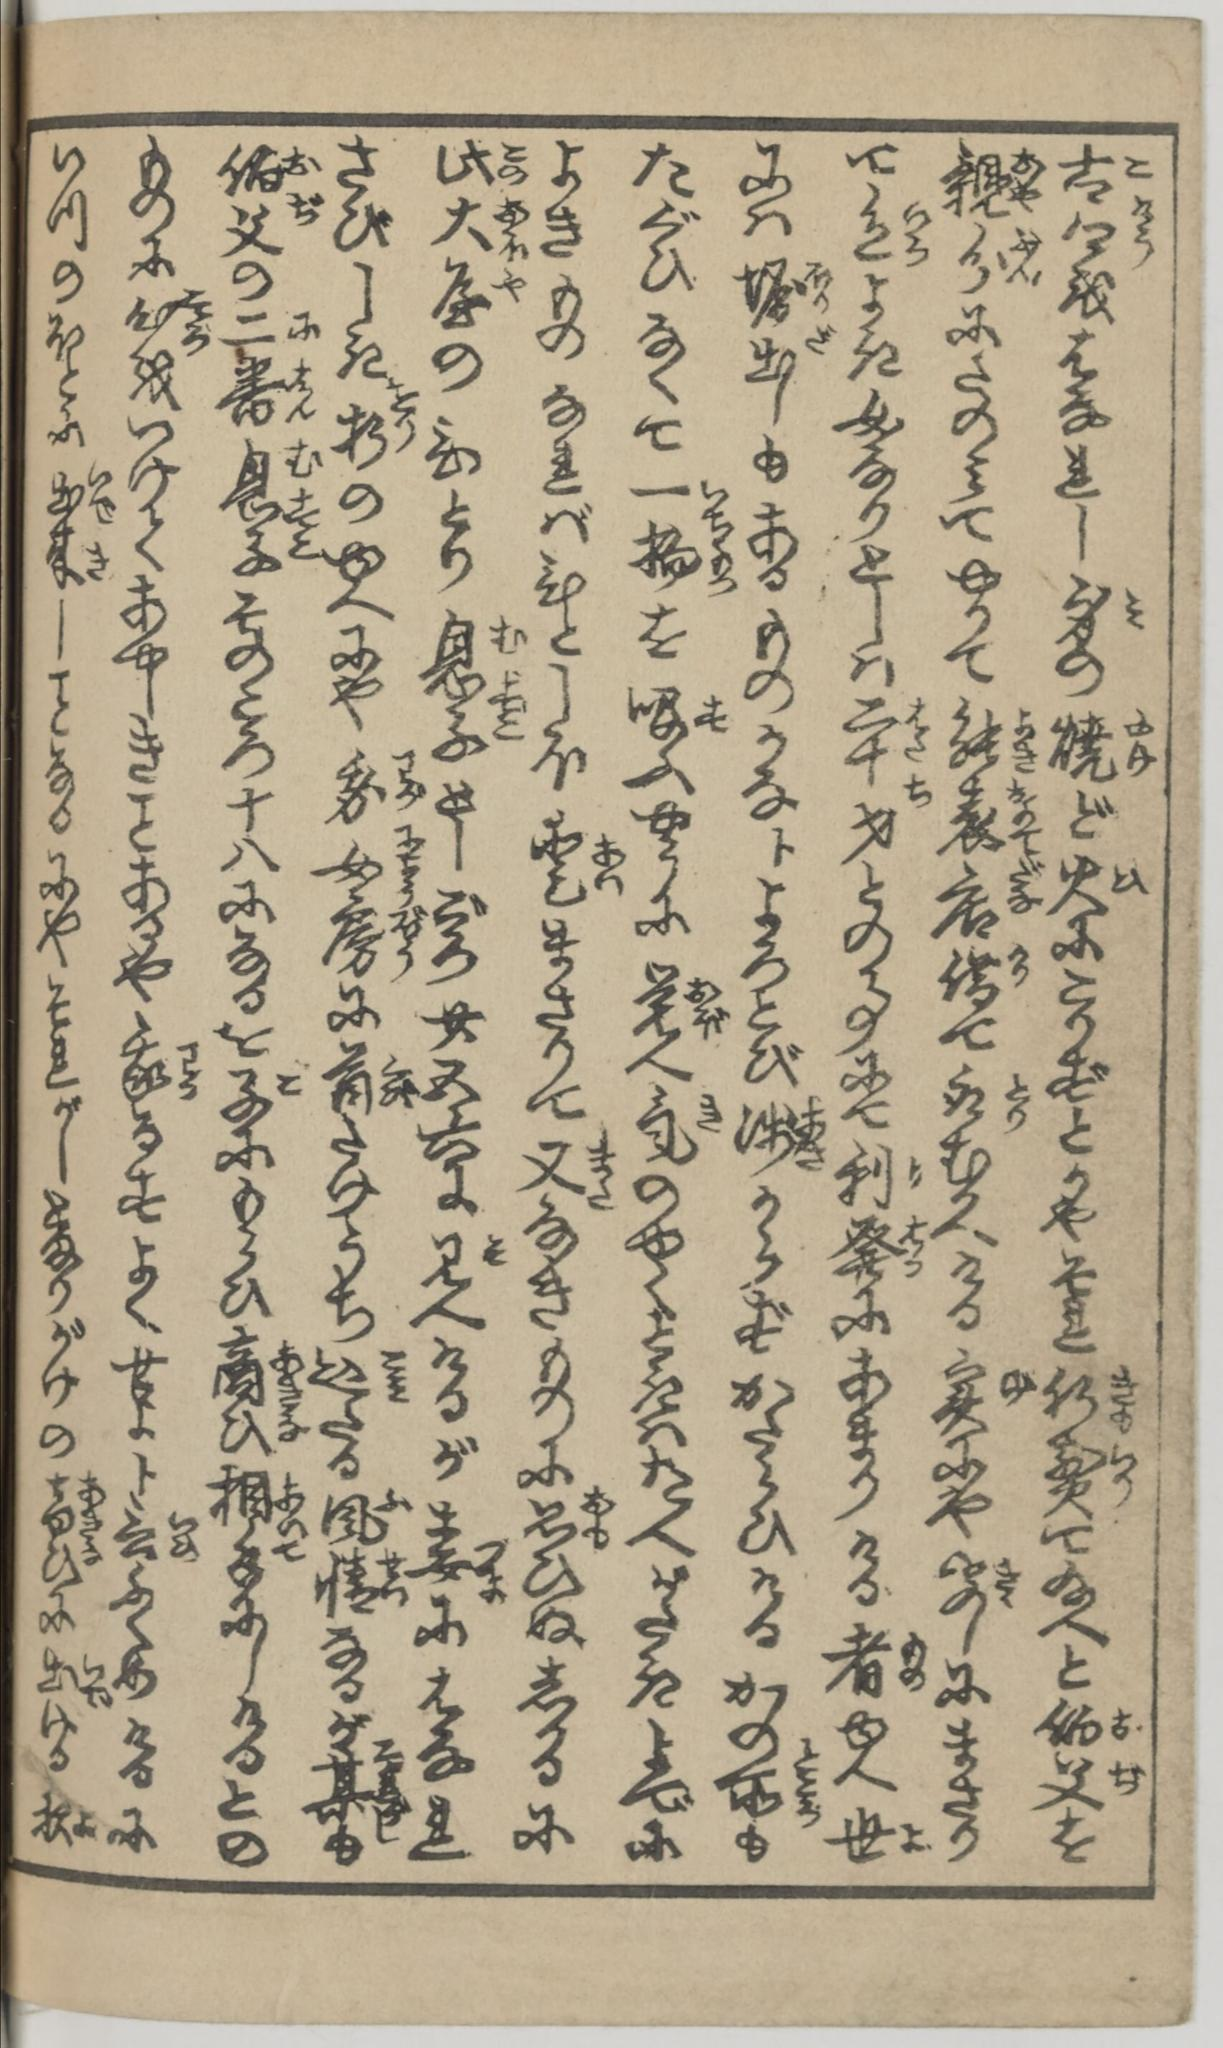MainZone-Character: (616, 466, 748, 608), (202, 1325, 309, 1454), (517, 819, 636, 907), (415, 1501, 512, 1606), (425, 670, 539, 758), (313, 1738, 406, 1846), (926, 1349, 1035, 1438), (1042, 706, 1156, 790), (114, 1007, 204, 1112), (943, 769, 1044, 857), (326, 389, 424, 479), (215, 352, 316, 440), (719, 1742, 821, 1828), (731, 1093, 830, 1180), (1040, 1435, 1146, 1515), (942, 143, 1048, 223), (828, 1212, 927, 1297), (328, 904, 428, 987), (616, 686, 732, 757), (314, 1041, 422, 1116), (312, 1348, 419, 1424), (309, 1543, 411, 1620), (818, 1626, 927, 1697), (626, 961, 731, 1035), (936, 862, 1047, 932), (1047, 572, 1155, 643), (932, 937, 1040, 1009), (512, 1135, 622, 1205), (842, 767, 935, 849), (425, 265, 529, 338), (215, 197, 328, 263), (844, 189, 936, 271), (1054, 199, 1165, 266), (231, 495, 320, 576), (325, 747, 428, 817), (932, 1060, 1037, 1128), (729, 253, 831, 323), (326, 831, 428, 901), (1051, 854, 1159, 920), (948, 224, 1040, 300), (215, 1470, 314, 1540), (826, 1806, 933, 1870), (834, 1134, 925, 1210), (633, 1089, 724, 1164), (1037, 1361, 1139, 1428), (731, 325, 837, 389), (430, 192, 533, 258), (39, 1473, 109, 1569), (942, 696, 1035, 767), (842, 697, 935, 769), (1060, 143, 1166, 202), (932, 1552, 1024, 1620), (424, 607, 533, 664), (524, 1480, 611, 1550), (218, 141, 326, 197), (215, 1541, 304, 1607), (116, 291, 210, 352), (221, 1063, 304, 1131), (432, 141, 537, 195), (215, 444, 328, 491), (114, 1512, 207, 1568), (33, 1649, 115, 1710), (26, 1792, 102, 1856), (44, 534, 116, 594), (224, 309, 328, 348), (316, 1489, 397, 1536), (47, 464, 112, 518)
MainZone-Ruby: (697, 482, 741, 597), (274, 1339, 309, 1454), (485, 664, 529, 754), (370, 1739, 406, 1847), (387, 904, 428, 994), (581, 1132, 622, 1215), (469, 1533, 511, 1611), (1003, 771, 1042, 854), (1101, 1437, 1141, 1511), (582, 833, 626, 901), (1120, 709, 1155, 792), (997, 1360, 1044, 1421), (392, 822, 428, 900), (789, 1744, 821, 1828), (686, 972, 729, 1033), (1006, 144, 1044, 214), (79, 1475, 108, 1563), (376, 1054, 418, 1114), (282, 491, 316, 563), (692, 690, 737, 742), (489, 198, 529, 256), (795, 1099, 826, 1173), (1118, 581, 1149, 654), (377, 1544, 408, 1617), (1104, 1362, 1139, 1425), (1005, 229, 1040, 290), (173, 1031, 201, 1108), (903, 195, 932, 268), (274, 1472, 310, 1530), (1008, 859, 1045, 914), (897, 1215, 927, 1284), (1127, 201, 1157, 268), (384, 387, 418, 448), (577, 1485, 609, 1547), (395, 747, 424, 814), (903, 700, 932, 766), (376, 1351, 411, 1405), (1008, 699, 1037, 761), (1002, 1068, 1031, 1131), (804, 255, 833, 317), (1111, 860, 1159, 898), (166, 1511, 204, 1559), (285, 362, 314, 424), (1008, 945, 1041, 997), (79, 1654, 109, 1710), (897, 1630, 925, 1691), (178, 290, 208, 345), (495, 140, 530, 188), (489, 614, 529, 656), (993, 1550, 1019, 1613), (291, 194, 326, 239), (280, 441, 325, 476), (84, 537, 112, 594), (1121, 144, 1157, 185), (284, 144, 326, 179), (801, 322, 839, 358), (285, 310, 325, 344), (898, 1818, 926, 1860), (494, 266, 521, 309), (900, 776, 930, 814), (694, 1090, 719, 1132), (83, 472, 109, 511), (903, 1147, 926, 1189), (74, 1798, 96, 1840), (274, 1539, 303, 1569), (272, 1067, 300, 1099), (376, 1489, 406, 1517)
